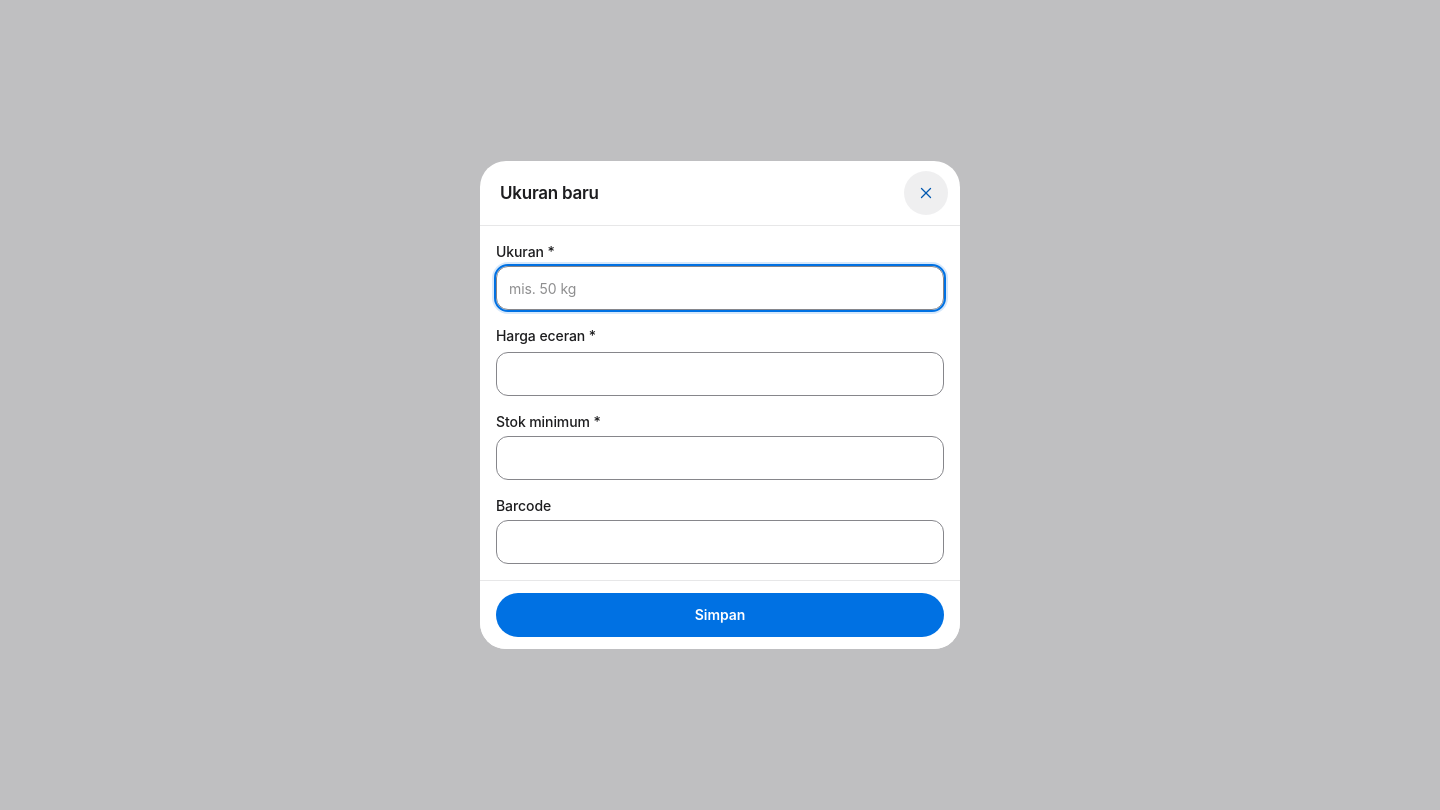
Test case: UkuranSheet: number validation › asks for harga eceran when it is left empty
This screenshot has width=1440, height=810.
Type "50 kg" into the field labelled "Ukuran" at [720, 288], box [496,266,944,310]
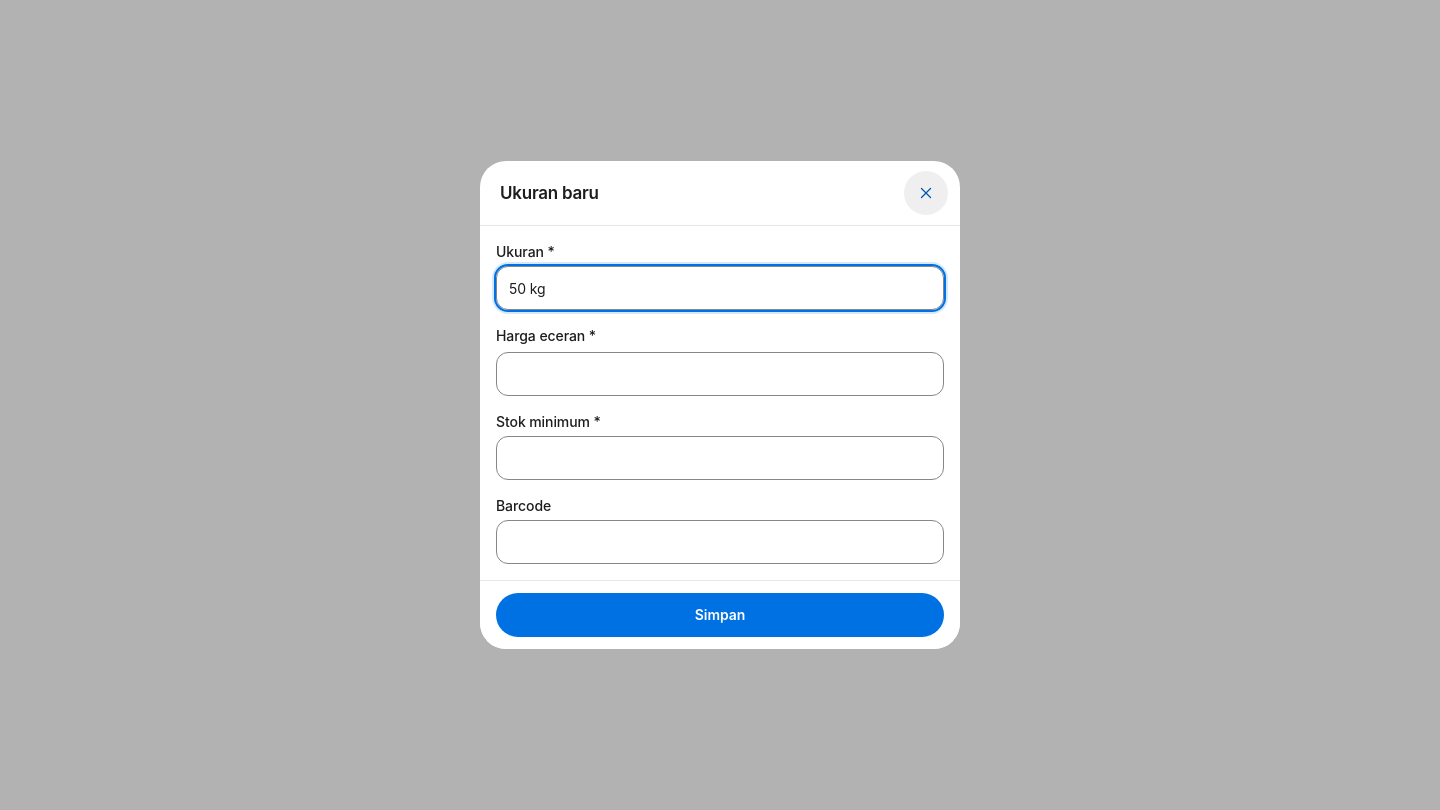
Type "10" into the number field labelled "Stok minimum" at [720, 458], box [496,436,944,480]
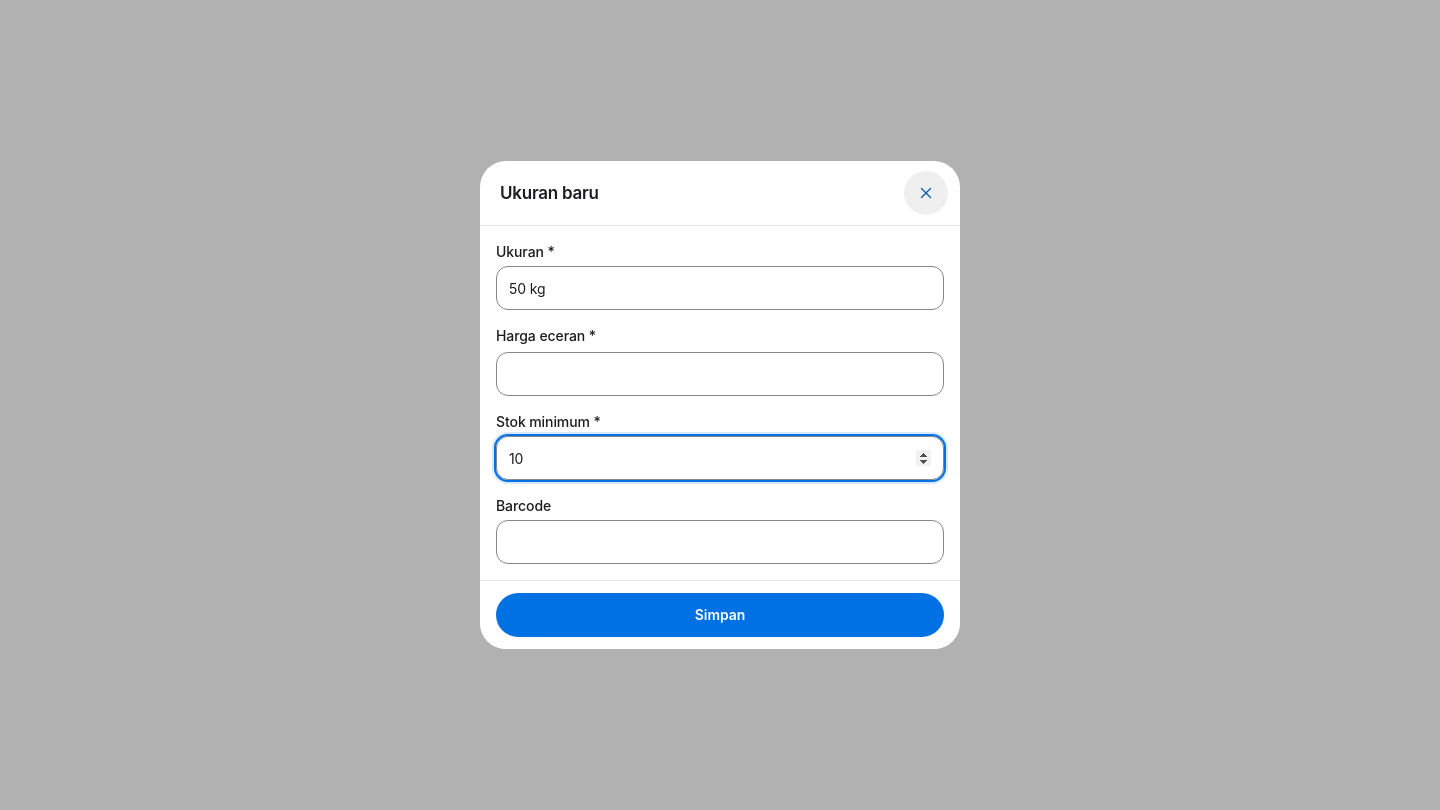
Click the button "Simpan" at [720, 615], box [496,593,944,637]
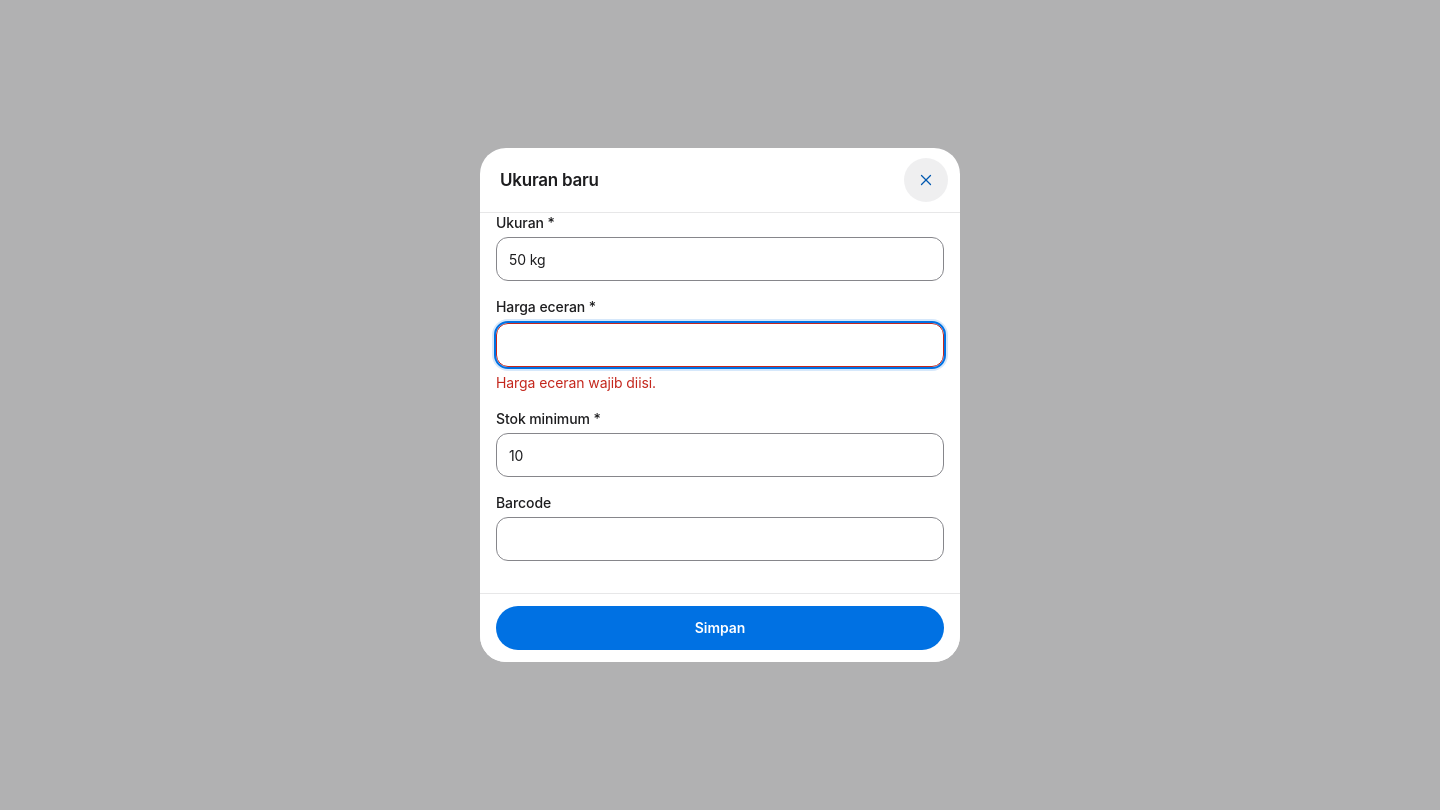
Expected: the text "Harga eceran wajib diisi." is shown, [496,374,656,391]
